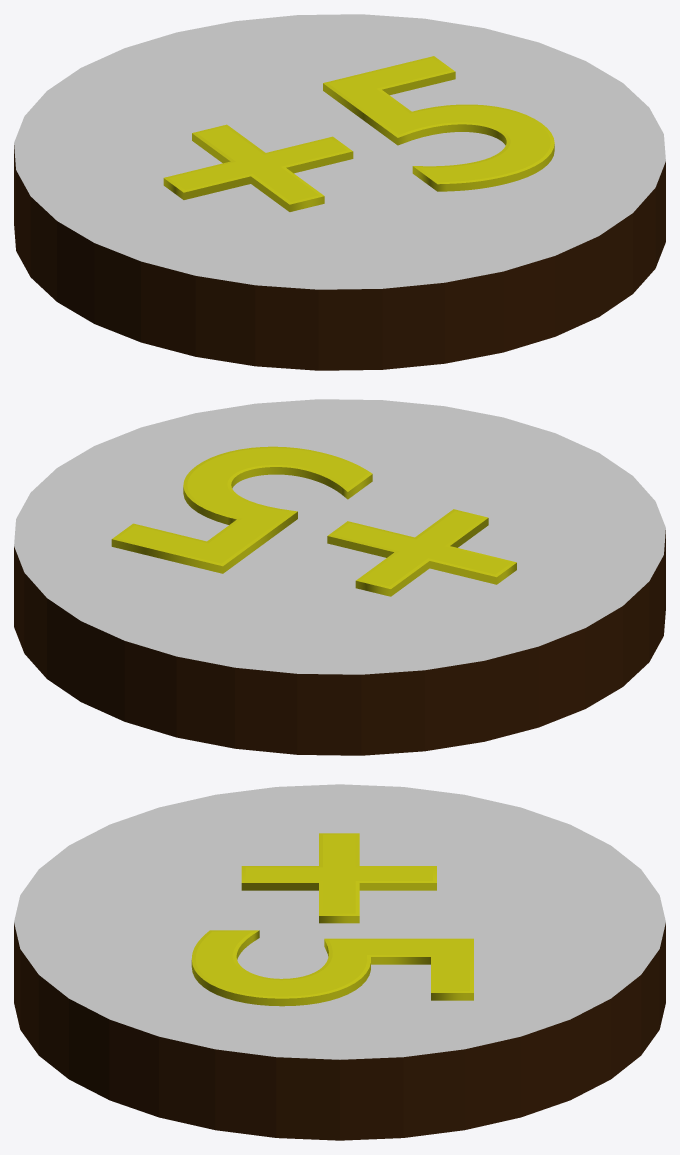
File: coin.fbx
3 views of the same model, one above another, from view 1: azimuth 30°, elevation 25°; view 2: azimuth 150°, elevation 25°; view 3: azimuth 270°, elevation 25° (orthographic).
Parts seen in each view (by area): view 1: Cylinder, Text; view 2: Cylinder, Text; view 3: Cylinder, Text.
Boxes of the visible parts, bbox=[...] form: Cylinder: bbox=[14, 14, 665, 370]; Text: bbox=[163, 56, 554, 211]; Cylinder: bbox=[14, 399, 665, 755]; Text: bbox=[111, 446, 516, 596]; Cylinder: bbox=[14, 784, 665, 1140]; Text: bbox=[191, 833, 473, 1006].
Bounding box in the file's own units: 200 × 31.81 × 200.
